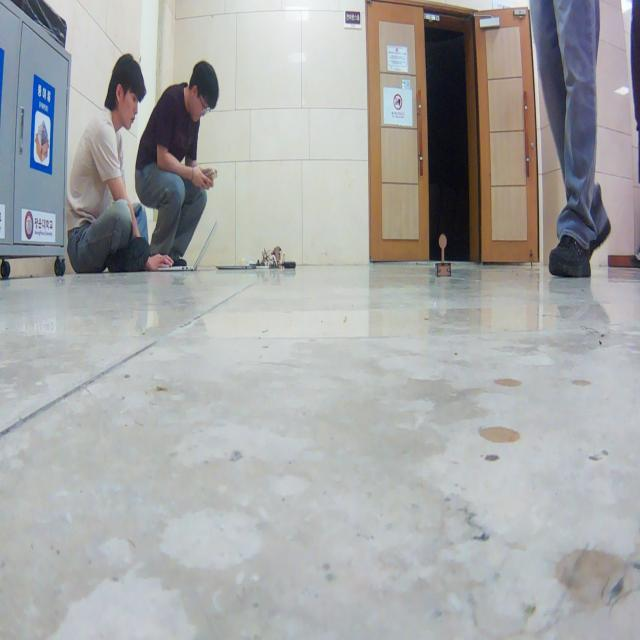target: (434, 232, 452, 278)
